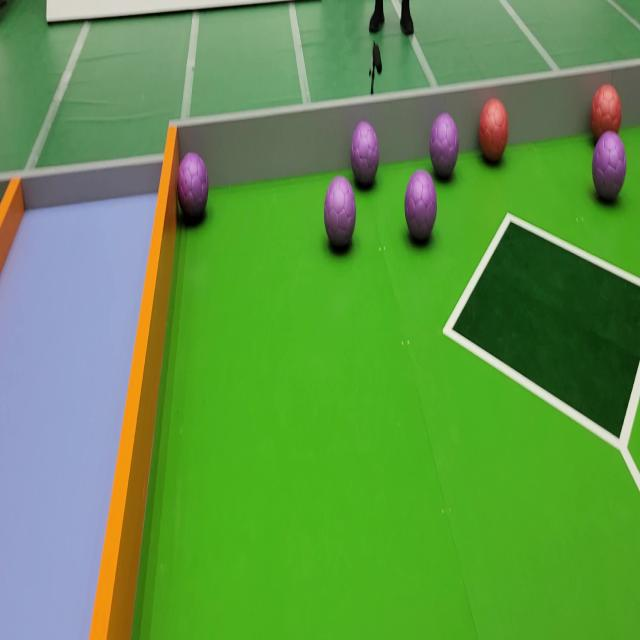purple_ball: (322, 175, 358, 258), (403, 164, 437, 250), (590, 134, 626, 205), (177, 152, 211, 227), (429, 113, 460, 181), (350, 120, 380, 187)
red_ball: (478, 98, 509, 166), (591, 83, 622, 134)
